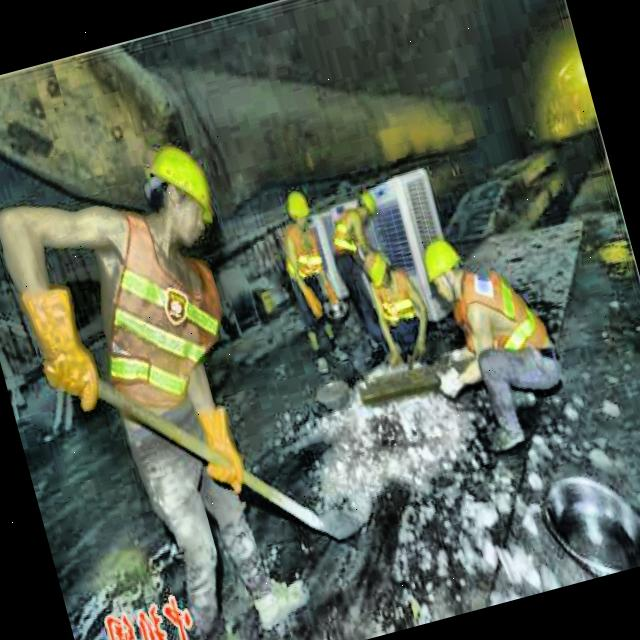helmet: (128, 130, 230, 264), (416, 231, 472, 308), (358, 245, 397, 302), (284, 188, 314, 236), (348, 187, 382, 225)
